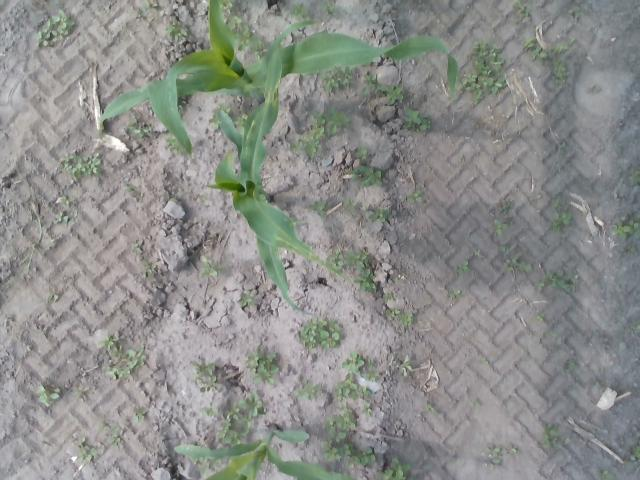Maize: (99, 0, 458, 154), (208, 19, 348, 315), (173, 423, 358, 480)
Weeds: (322, 404, 376, 468), (290, 106, 351, 160), (460, 37, 508, 105), (19, 198, 55, 281), (217, 389, 267, 446), (524, 36, 574, 86), (98, 332, 147, 382), (325, 249, 379, 293), (333, 350, 377, 401), (296, 314, 344, 351), (35, 10, 77, 46), (54, 150, 102, 180), (362, 72, 403, 107), (248, 346, 280, 385), (500, 244, 536, 277), (538, 268, 580, 296), (234, 22, 264, 60), (46, 195, 80, 227), (189, 359, 219, 393), (346, 166, 385, 192), (376, 457, 416, 480), (548, 195, 572, 233), (484, 444, 522, 468), (612, 209, 640, 241), (402, 105, 432, 134), (322, 68, 354, 95), (73, 436, 99, 466), (197, 254, 224, 282), (37, 380, 63, 409), (538, 422, 563, 450), (100, 420, 124, 448), (208, 103, 232, 130), (295, 378, 324, 400), (386, 306, 416, 327), (126, 113, 151, 138), (194, 458, 223, 476), (492, 218, 516, 239), (164, 20, 188, 40), (136, 0, 158, 21), (397, 352, 414, 379), (368, 204, 392, 223), (140, 260, 160, 280), (165, 134, 184, 155), (199, 400, 221, 418), (290, 1, 310, 20), (308, 200, 329, 218), (342, 196, 362, 214), (514, 2, 532, 22), (238, 289, 256, 309), (74, 384, 90, 406), (122, 182, 142, 199), (130, 406, 148, 424), (226, 12, 243, 30), (322, 0, 338, 17), (405, 189, 423, 204), (455, 260, 470, 278), (356, 144, 370, 160), (500, 198, 514, 214), (627, 168, 640, 185), (220, 0, 238, 12), (130, 240, 143, 255), (571, 5, 584, 20), (235, 111, 248, 125), (566, 359, 579, 373), (426, 401, 438, 415), (383, 292, 397, 304), (196, 194, 214, 203), (630, 444, 640, 460), (531, 194, 544, 206), (46, 292, 59, 304), (600, 469, 614, 480), (364, 404, 374, 419), (167, 192, 180, 202), (447, 290, 463, 298), (626, 244, 636, 254), (472, 398, 482, 408), (536, 312, 544, 324), (558, 141, 567, 150), (550, 327, 559, 336), (460, 154, 468, 164), (596, 380, 604, 390), (389, 272, 399, 280), (473, 250, 482, 258), (482, 357, 489, 366), (635, 320, 640, 332), (566, 436, 572, 446)
